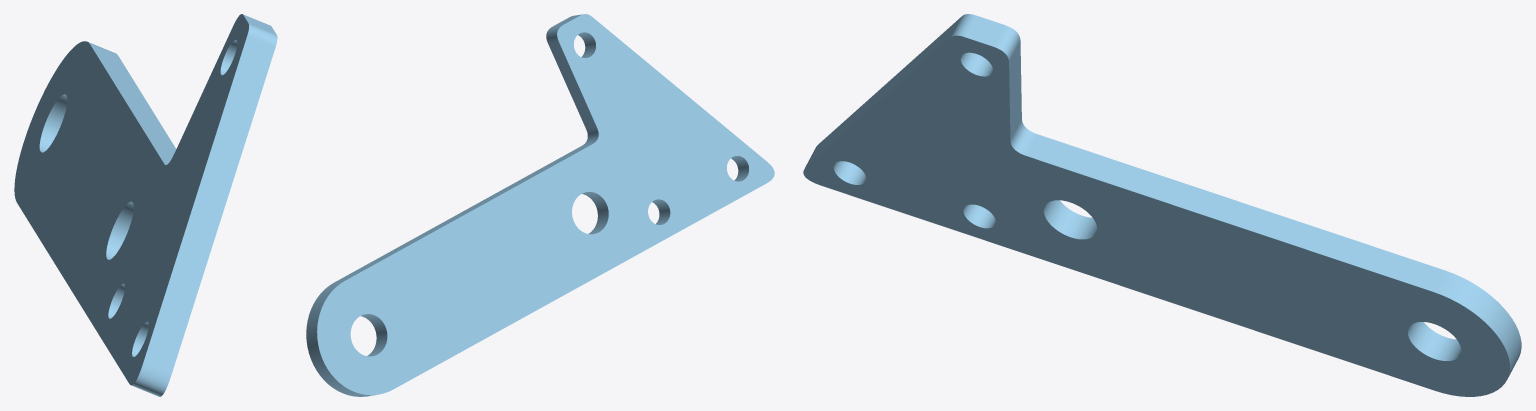
The picture shows the model from 3 angles, left to right: view 1: azimuth 30°, elevation 25°; view 2: azimuth 150°, elevation 25°; view 3: azimuth 270°, elevation 25°; orthographic projection. The views are drawn at different scales.
Parts seen in each view (by area): view 1: mesh1372, mesh1373, mesh1376, mesh1379, mesh1370, mesh1386, mesh1382, mesh1383, mesh1384, mesh1385; view 2: mesh1372, mesh1375, mesh1376, mesh1377, mesh1370, mesh1386; view 3: mesh1371, mesh1376, mesh1375, mesh1373, mesh1386, mesh1370, mesh1377, mesh1378.
Boxes of the visible parts, x1=… form: mesh1372: x1=14, y1=14, x2=248, y2=385; mesh1373: x1=143, y1=36, x2=275, y2=373; mesh1376: x1=90, y1=44, x2=176, y2=164; mesh1379: x1=131, y1=363, x2=171, y2=396; mesh1370: x1=39, y1=94, x2=67, y2=152; mesh1386: x1=106, y1=201, x2=133, y2=259; mesh1382: x1=247, y1=23, x2=277, y2=47; mesh1383: x1=220, y1=40, x2=237, y2=75; mesh1384: x1=108, y1=283, x2=124, y2=318; mesh1385: x1=132, y1=322, x2=148, y2=356; mesh1372: x1=317, y1=14, x2=774, y2=395; mesh1375: x1=306, y1=281, x2=375, y2=396; mesh1376: x1=334, y1=144, x2=591, y2=282; mesh1377: x1=548, y1=42, x2=596, y2=128; mesh1370: x1=361, y1=314, x2=387, y2=356; mesh1386: x1=582, y1=192, x2=608, y2=234; mesh1371: x1=803, y1=35, x2=1509, y2=396; mesh1376: x1=1027, y1=134, x2=1444, y2=291; mesh1375: x1=1434, y1=270, x2=1521, y2=377; mesh1373: x1=808, y1=17, x2=961, y2=164; mesh1386: x1=1043, y1=200, x2=1097, y2=239; mesh1370: x1=1408, y1=322, x2=1461, y2=360; mesh1377: x1=1009, y1=41, x2=1021, y2=139; mesh1378: x1=965, y1=15, x2=1003, y2=46.
Bounding box in the file's own units: 0.0297 × 0.0335 × 0.0612.
